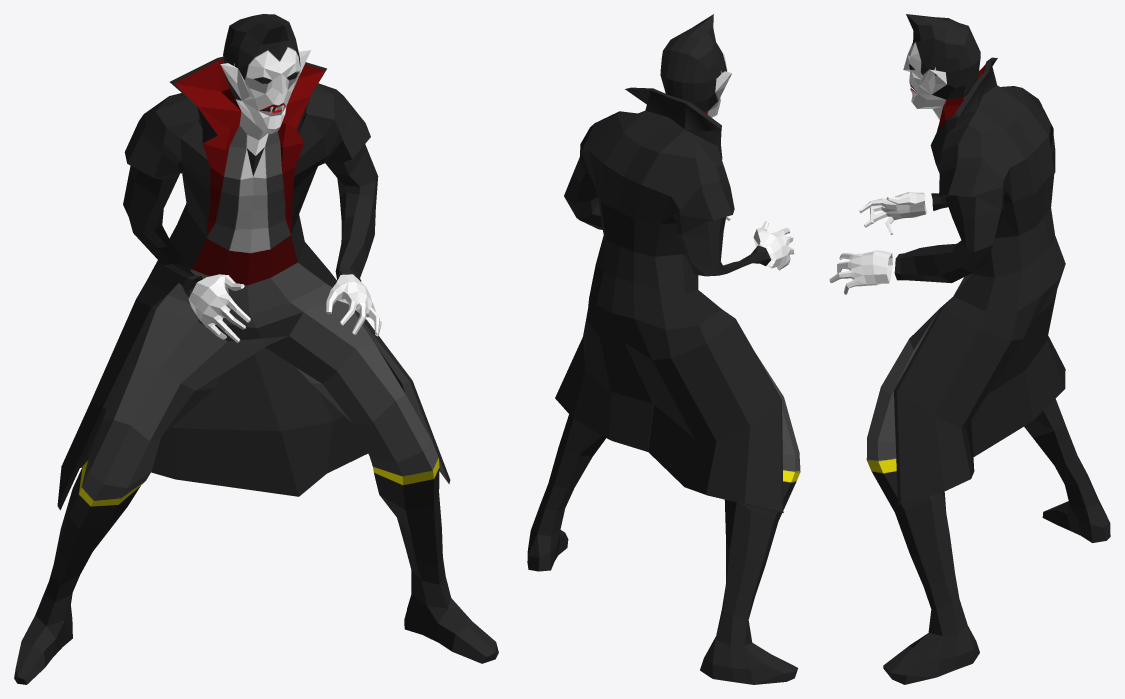
File: VampireAttack(125).obj
The picture shows the model from 3 angles, left to right: view 1: azimuth 30°, elevation 25°; view 2: azimuth 150°, elevation 25°; view 3: azimuth 270°, elevation 25°; orthographic projection. The views are drawn at different scales.
Visible parts, largest first — view 1: Plane002; view 2: Plane002; view 3: Plane002.
Part boxes in pixels (left/top/right/bottom): Plane002: left=14, top=14, right=498, bottom=684; Plane002: left=527, top=14, right=800, bottom=684; Plane002: left=829, top=14, right=1110, bottom=684.
Bounding box in the file's own units: 73.43 × 120 × 52.77.
